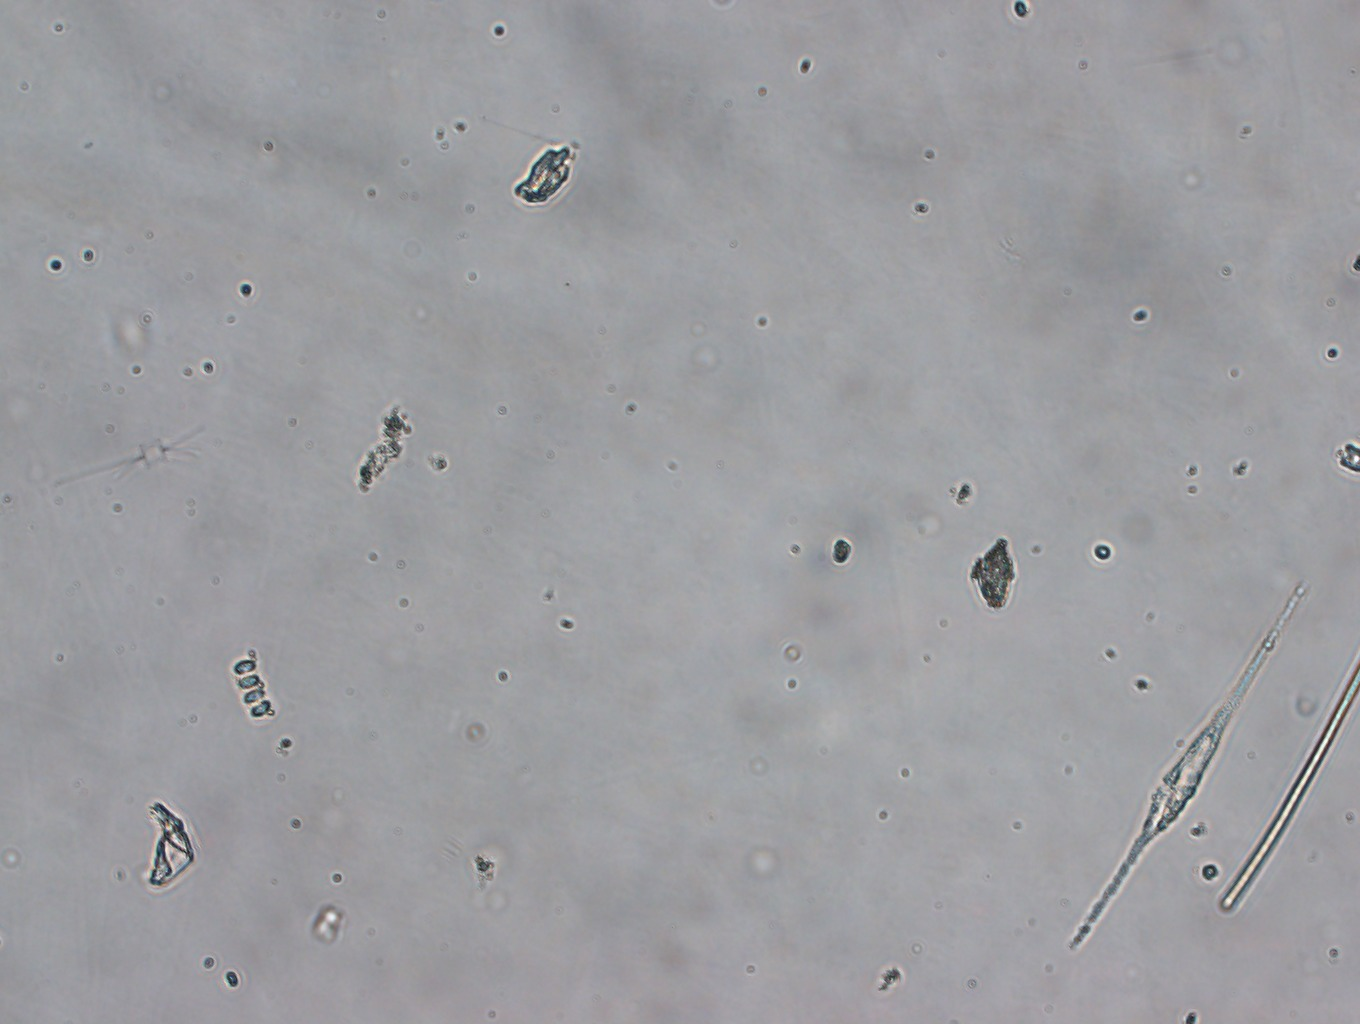ceratium fusus: (1064, 577, 1317, 955)
